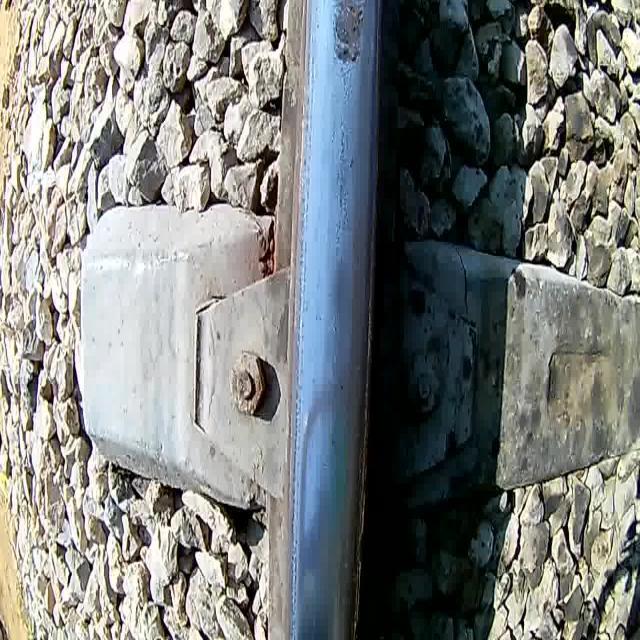Squats: (316, 0, 376, 75)
